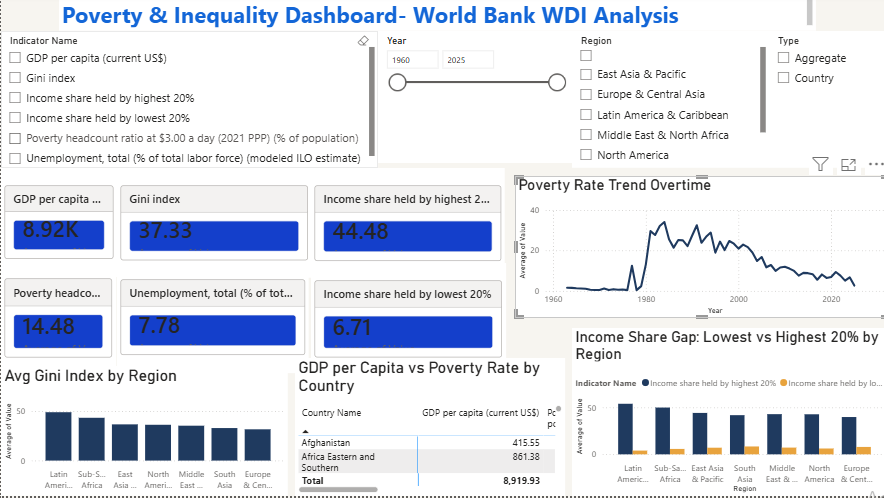

This screenshot's page, from the dashboard's own definition file:
{"tool":"powerbi","page":{"name":"Page 1","canvas":[1280,720],"ordinal":0},"visuals":[{"type":"slicer","fields":{"Values":["Poverty_inequality_cleaned.Indicator Name"]},"box":[0,50.4,542.9,197.3],"z":0},{"type":"slicer","fields":{"Values":["Poverty_inequality_cleaned.Region"]},"box":[826.6,50.4,279.4,197.3],"z":1000},{"type":"slicer","fields":{"Values":["Poverty_inequality_cleaned.Type"]},"box":[1105.9,50.4,174.2,92.2],"z":2000},{"type":"slicer","fields":{"Values":["Poverty_inequality_cleaned.Year"]},"box":[542.9,50.4,279.4,118.1],"z":3000},{"type":"cardVisual","fields":{"Data":["Avg(Poverty_inequality_cleaned.Value)"],"Rows":["Poverty_inequality_cleaned.Indicator Name"]},"box":[167,247.7,280.8,158.4],"z":4000},{"type":"cardVisual","fields":{"Data":["Avg(Poverty_inequality_cleaned.Value)"],"Rows":["Poverty_inequality_cleaned.Indicator Name"]},"box":[0,247.7,167,157],"z":5000},{"type":"cardVisual","fields":{"Data":["Avg(Poverty_inequality_cleaned.Value)"],"Rows":["Poverty_inequality_cleaned.Indicator Name"]},"box":[446.4,239,279.4,159.8],"z":6000},{"type":"cardVisual","fields":{"Data":["Avg(Poverty_inequality_cleaned.Value)"],"Rows":["Poverty_inequality_cleaned.Indicator Name"]},"box":[446.4,384.5,280.8,161.3],"z":7000},{"type":"cardVisual","title":"av","fields":{"Data":["Avg(Poverty_inequality_cleaned.Value)"],"Rows":["Poverty_inequality_cleaned.Indicator Name"]},"box":[0,381.6,165.6,164.2],"z":8000},{"type":"cardVisual","fields":{"Data":["Avg(Poverty_inequality_cleaned.Value)"],"Rows":["Poverty_inequality_cleaned.Indicator Name"]},"box":[167,383,276.5,159.8],"z":9000},{"type":"lineChart","title":" Poverty Rate Trend Overtime","fields":{"Category":["Poverty_inequality_cleaned.Year"],"Y":["Avg(Poverty_inequality_cleaned.Value)"]},"box":[727.2,308.2,553,180],"z":10000},{"type":"clusteredColumnChart","title":"Avg Gini Index by Region","fields":{"Category":["Poverty_inequality_cleaned.Region"],"Y":["Avg(Poverty_inequality_cleaned.Value)"]},"box":[0,532.8,413.3,187.2],"z":11000},{"type":"clusteredColumnChart","title":"Income Share Gap: Lowest vs Highest 20% by Region","fields":{"Category":["Poverty_inequality_cleaned.Region"],"Y":["Avg(Poverty_inequality_cleaned.Value)"],"Series":["Poverty_inequality_cleaned.Indicator Name"]},"box":[430.6,492.5,396,227.5],"z":12000},{"type":"pivotTable","title":"GDP per Capita vs Poverty Rate by Country","fields":{"Rows":["Poverty_inequality_cleaned.Country Name"],"Columns":["Poverty_inequality_cleaned.Indicator Name"],"Values":["Avg(Poverty_inequality_cleaned.Value)"]},"box":[832.3,492.5,447.8,227.5],"z":13000},{"type":"textbox","box":[83.5,0,1090.1,50.4],"z":13001}]}

Visuals, with their boxes in screenshot pixels (x1, y1, x2, y2), scaled from the page's 1280x720 canvas onto the 884x498 screenshot:
slicer - Poverty_inequality_cleaned.Indicator Name: bbox=(0, 35, 375, 171)
slicer - Poverty_inequality_cleaned.Region: bbox=(571, 35, 764, 171)
slicer - Poverty_inequality_cleaned.Type: bbox=(764, 35, 883, 99)
slicer - Poverty_inequality_cleaned.Year: bbox=(375, 35, 568, 117)
cardVisual - Avg(Poverty_inequality_cleaned.Value) x Poverty_inequality_cleaned.Indicator Name: bbox=(115, 171, 309, 281)
cardVisual - Avg(Poverty_inequality_cleaned.Value) x Poverty_inequality_cleaned.Indicator Name: bbox=(0, 171, 115, 280)
cardVisual - Avg(Poverty_inequality_cleaned.Value) x Poverty_inequality_cleaned.Indicator Name: bbox=(308, 165, 501, 276)
cardVisual - Avg(Poverty_inequality_cleaned.Value) x Poverty_inequality_cleaned.Indicator Name: bbox=(308, 266, 502, 378)
"av" cardVisual: bbox=(0, 264, 114, 378)
cardVisual - Avg(Poverty_inequality_cleaned.Value) x Poverty_inequality_cleaned.Indicator Name: bbox=(115, 265, 306, 375)
" Poverty Rate Trend Overtime" lineChart: bbox=(502, 213, 883, 338)
"Avg Gini Index by Region" clusteredColumnChart: bbox=(0, 369, 285, 497)
"Income Share Gap: Lowest vs Highest 20% by Region" clusteredColumnChart: bbox=(297, 341, 571, 497)
"GDP per Capita vs Poverty Rate by Country" pivotTable: bbox=(575, 341, 883, 497)
textbox: bbox=(58, 0, 811, 35)
